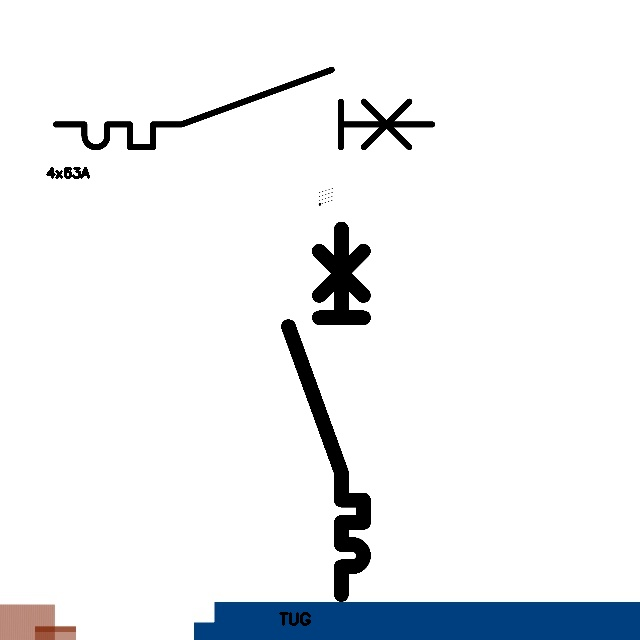interruptor_termomagnetico: (46, 60, 442, 157), (279, 219, 373, 604)
